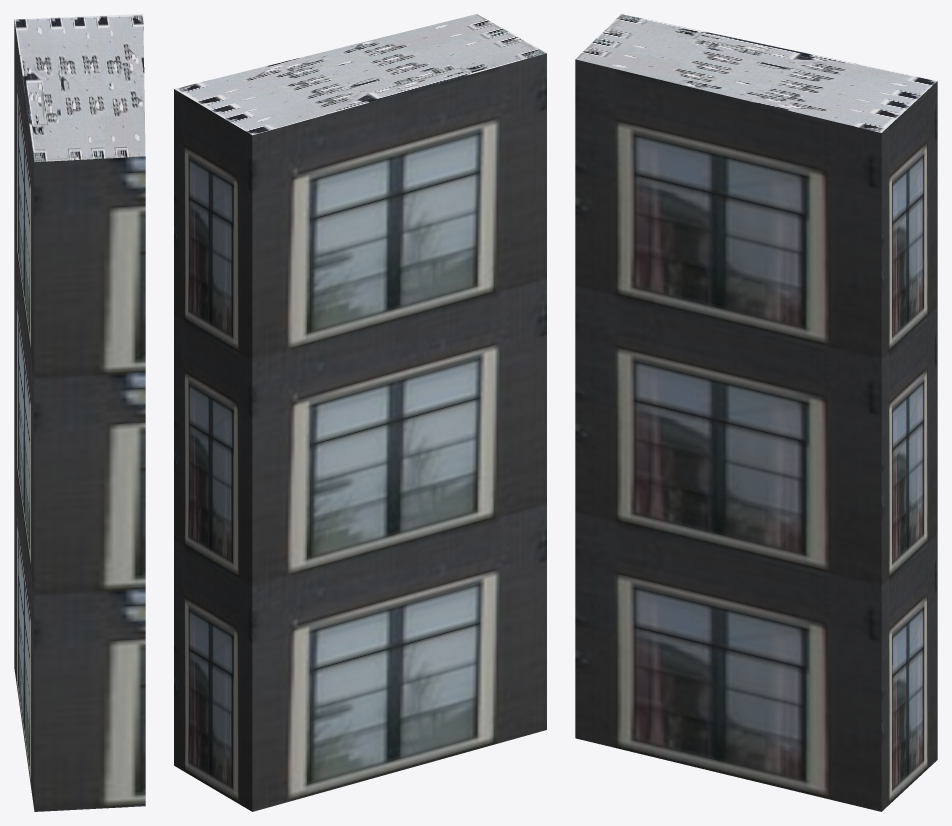
Rendered from ResTex__4600.fbx.
3 views of the same model, side by side, from view 1: azimuth 30°, elevation 25°; view 2: azimuth 150°, elevation 25°; view 3: azimuth 270°, elevation 25° (orthographic). The views are drawn at different scales.
Visible parts, largest first — view 1: CityEngineMaterial_22_m, CityEngineMaterial_8_m; view 2: CityEngineMaterial_22_m, CityEngineMaterial_8_m; view 3: CityEngineMaterial_22_m, CityEngineMaterial_8_m.
Boxes of the visible parts, bbox=[...] form: CityEngineMaterial_22_m: bbox=[14, 19, 145, 811]; CityEngineMaterial_8_m: bbox=[14, 14, 145, 162]; CityEngineMaterial_22_m: bbox=[174, 53, 546, 811]; CityEngineMaterial_8_m: bbox=[174, 14, 546, 135]; CityEngineMaterial_22_m: bbox=[575, 59, 937, 811]; CityEngineMaterial_8_m: bbox=[575, 14, 936, 132].
Bounding box in the file's own units: 3.38 × 9 × 4.35.
Materials: 2 (2 with a texture image).
